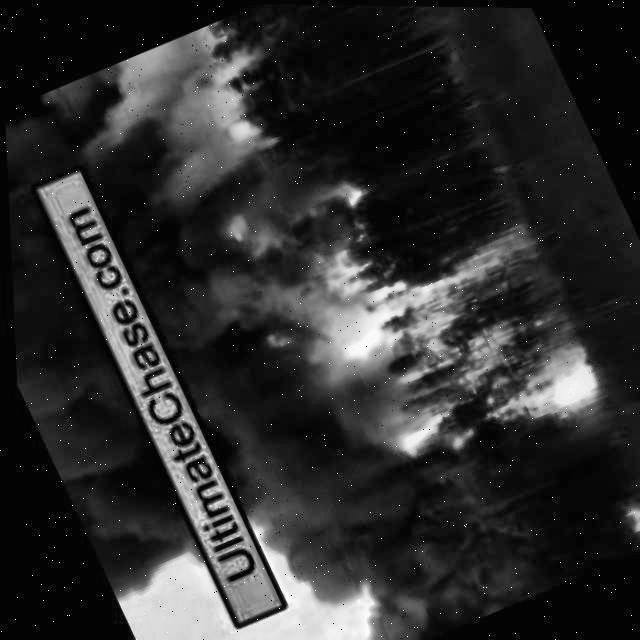Fire: (47, 24, 447, 622), (4, 112, 202, 600), (316, 223, 606, 482), (208, 159, 406, 331), (603, 484, 640, 544)
